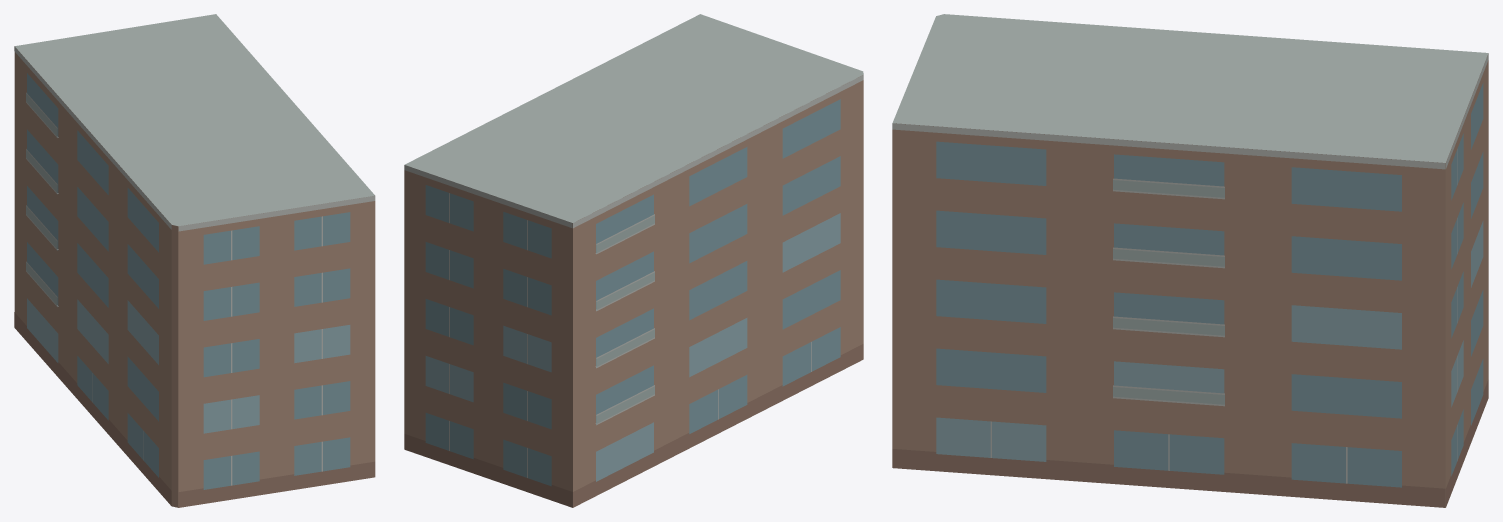
File: survey-upis-32656663.glb
3 renders of one model, left to right at view 1: azimuth 30°, elevation 25°; view 2: azimuth 150°, elevation 25°; view 3: azimuth 270°, elevation 25°, orthographic. The views are drawn at different scales.
Parts seen in each view (by area): view 1: survey-upis-32656663.tmp; view 2: survey-upis-32656663.tmp; view 3: survey-upis-32656663.tmp.
Boxes of the visible parts, bbox=[...] form: survey-upis-32656663.tmp: bbox=[14, 14, 375, 507]; survey-upis-32656663.tmp: bbox=[404, 14, 863, 507]; survey-upis-32656663.tmp: bbox=[892, 14, 1488, 507].
Bounding box in the file's own units: 12.15 × 13.1 × 20.53.
